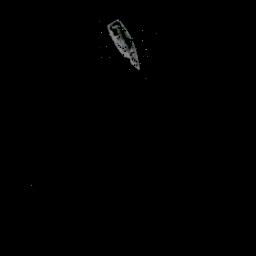boat: (92, 12, 158, 74), (26, 178, 42, 196)
